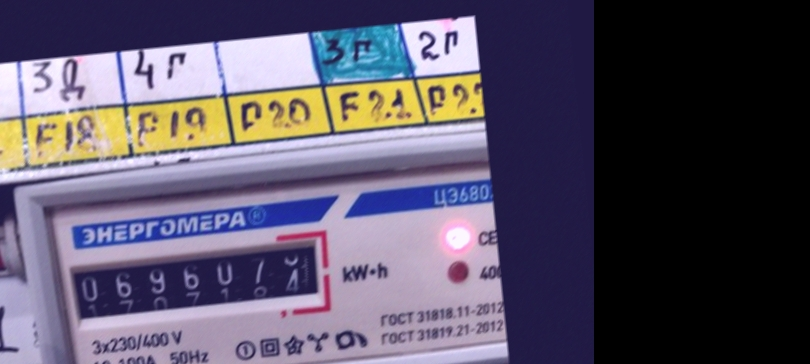0: (212, 255, 232, 287), (78, 273, 97, 302)
4: (280, 263, 299, 294)
6: (179, 259, 199, 290), (111, 268, 131, 298)
7: (245, 253, 267, 285)
9: (144, 265, 165, 295)
screen: (53, 225, 337, 336)
